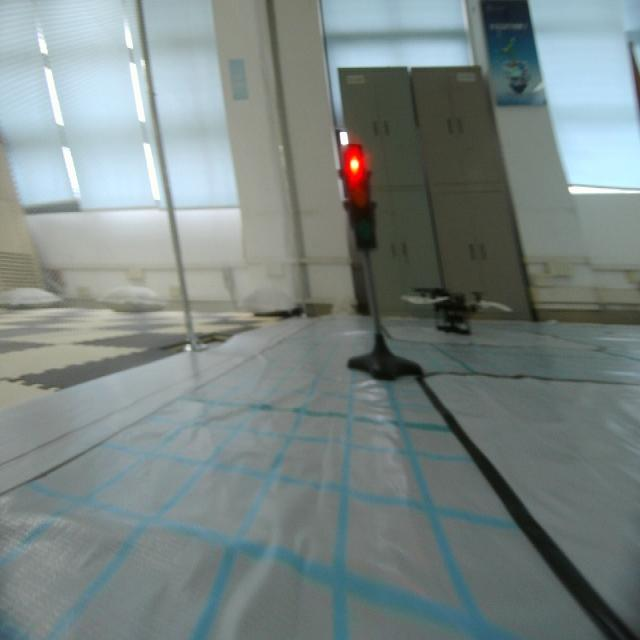red: (338, 144, 380, 256)
